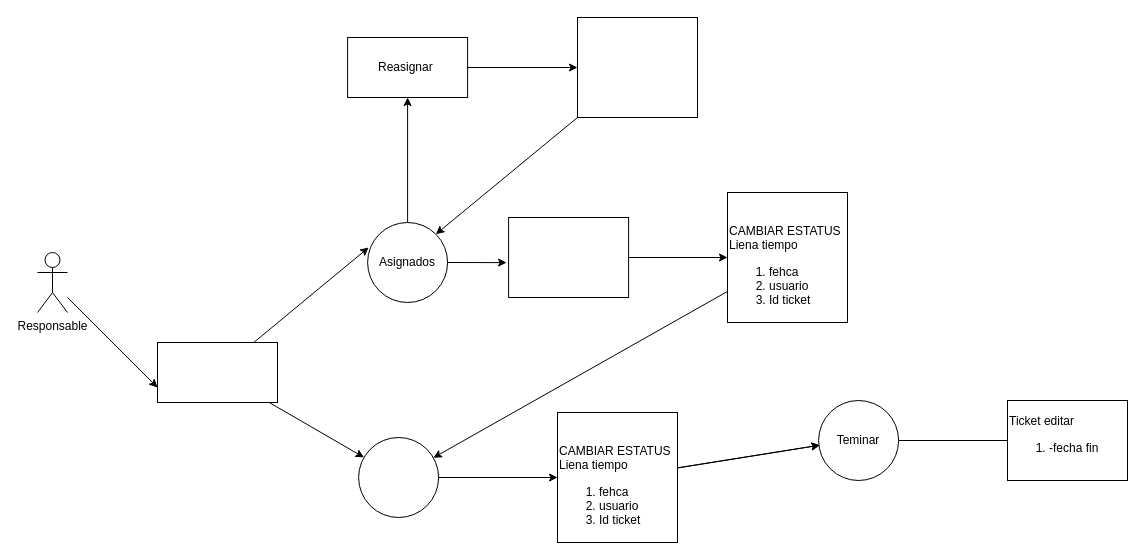
The diagram is 1145 pixels wide and 560 high, and some of its shapes have lost their labels. The centre of each missing label's shape, as x and y in pixels:
En Proceso: point 398,477
Liena tiempo fehca usuario Id ticket: point 637,67
Ticket Asignados: point 217,372
Ticket editar -fecha solucion: point 568,257
